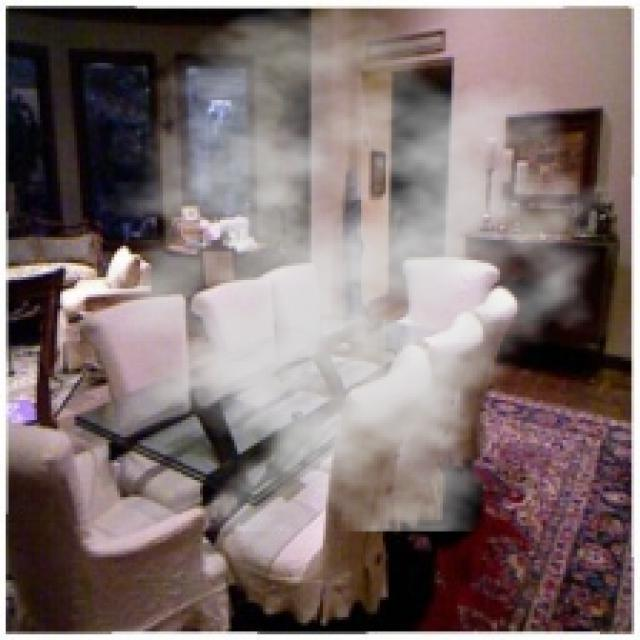Smoke: (52, 2, 618, 532)
